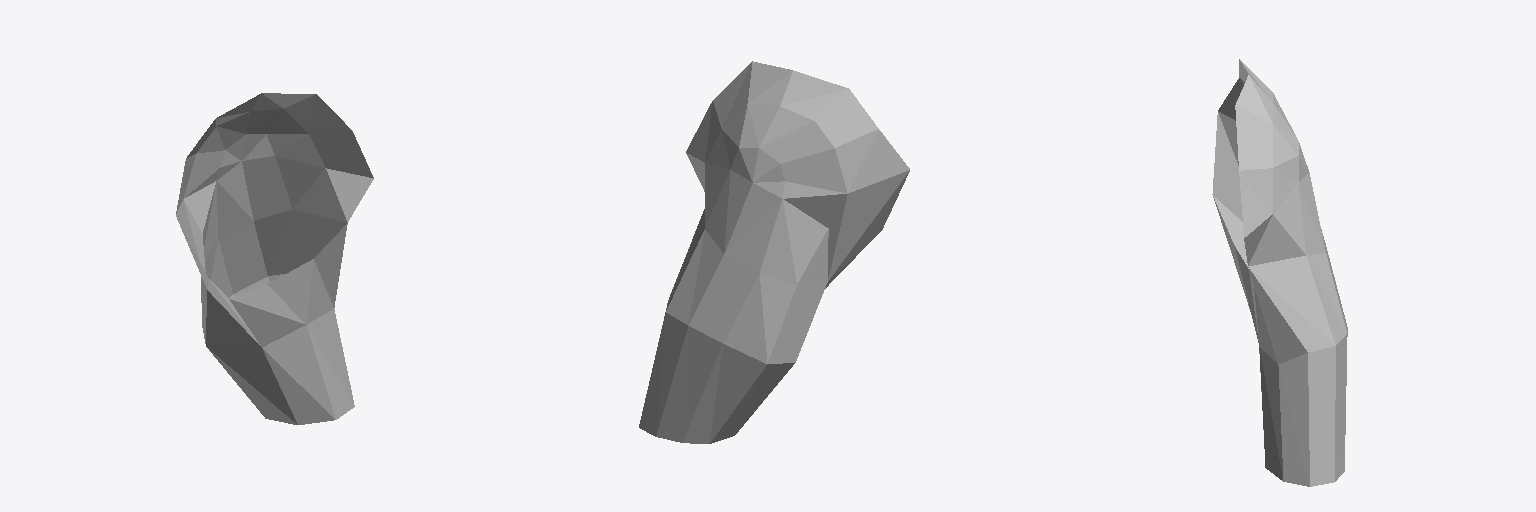
Rendered from VeloHombroDer.obj.
3 renders of one model, left to right at view 1: azimuth 30°, elevation 25°; view 2: azimuth 150°, elevation 25°; view 3: azimuth 270°, elevation 25°, orthographic.
Parts seen in each view (by area): view 1: VeloBrazoD:null_; view 2: VeloBrazoD:null_; view 3: VeloBrazoD:null_.
Part boxes in pixels (x1,y1,x2,y2): VeloBrazoD:null_: (176,93,373,424); VeloBrazoD:null_: (639,61,909,443); VeloBrazoD:null_: (1212,59,1347,486).
Size of the model in its own units: 0.3345 by 0.5067 by 0.1756.